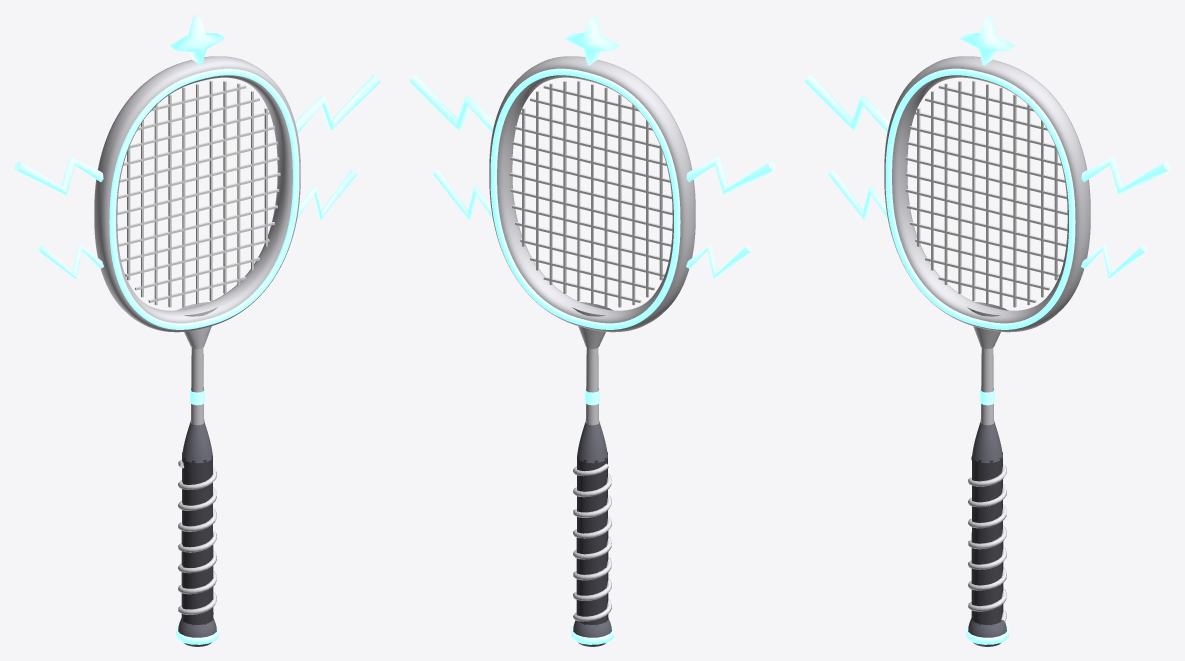
Rendered from racket_storm.glb.
3 renders of one model, left to right at view 1: azimuth 30°, elevation 25°; view 2: azimuth 150°, elevation 25°; view 3: azimuth 330°, elevation 25°, orthographic.
Visible parts, largest first — view 1: Strings, FrameHead, Groove, Grip, GripTape, Bolt.002, Spark, Bolt, Throat, Shaft, Bolt.003, Bolt.001 (+2 smaller); view 2: Strings, FrameHead, Groove.001, Grip, GripTape, Bolt.002, Spark, Bolt, Throat, Shaft, Bolt.003, Bolt.001 (+2 smaller); view 3: Strings, FrameHead, Groove, Grip, GripTape, Bolt, Spark, Bolt.002, Throat, Shaft, Bolt.001, Bolt.003 (+2 smaller).
Boxes of the visible parts, x1,y1,x2,y2 form: Strings: (117,80,280,307); FrameHead: (94,56,300,332); Groove: (109,68,299,329); Grip: (181,452,213,625); GripTape: (178,460,216,614); Bolt.002: (295,75,380,132); Spark: (170,14,224,65); Bolt: (14,156,103,194); Throat: (182,422,212,463); Shaft: (190,348,204,425); Bolt.003: (297,170,356,219); Bolt.001: (37,243,103,279); Strings: (509,80,672,307); FrameHead: (489,56,695,332); Groove.001: (490,68,680,329); Grip: (576,452,608,625); GripTape: (573,463,611,621); Bolt.002: (409,75,494,132); Spark: (565,14,619,65); Bolt: (686,156,775,194); Throat: (577,422,607,463); Shaft: (585,348,599,425); Bolt.003: (433,170,492,219); Bolt.001: (686,243,752,279); Strings: (905,80,1067,307); FrameHead: (884,56,1090,332); Groove: (885,68,1075,329); Grip: (971,452,1003,625); GripTape: (968,456,1006,623); Bolt: (804,75,889,132); Spark: (960,14,1014,65); Bolt.002: (1081,156,1170,194); Throat: (972,422,1002,463); Shaft: (980,348,994,425); Bolt.001: (828,170,887,219); Bolt.003: (1081,243,1147,279).
Bounding box in the file's own units: 0.4762 × 0.782 × 0.0496.
